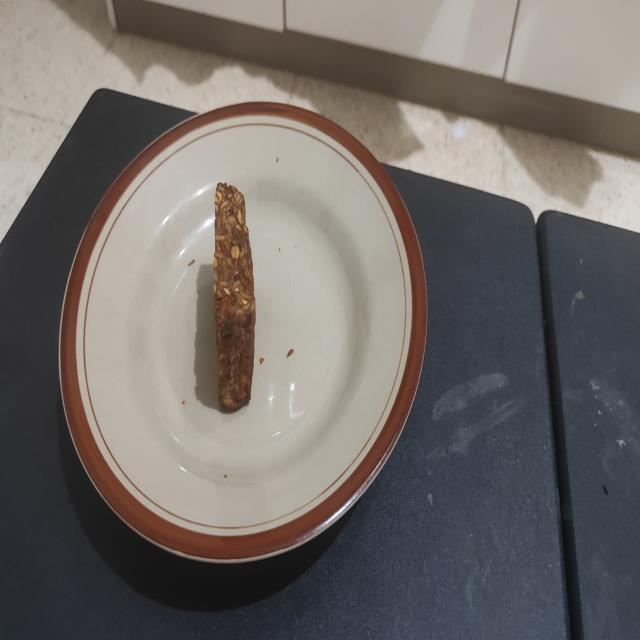tempe_goreng: (213, 183, 256, 411)
